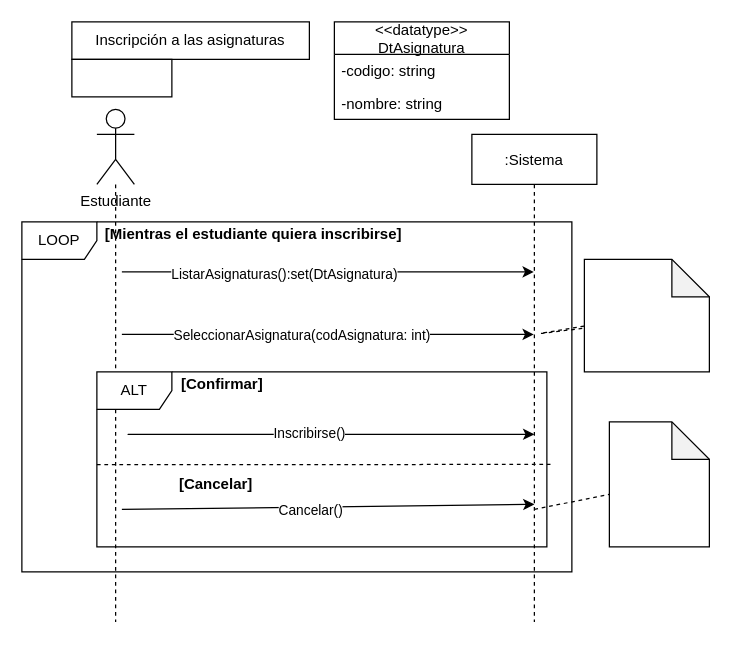
This 731x645 diagram has some shape labels left out. Each missing label, with the centre of its shape:
"Con memoria" goes at [121,77].
"Sistema libera la memoria asociada" goes at [658,484].
"Sistema recuerda a 'codAsignatura'" goes at [646,315].
